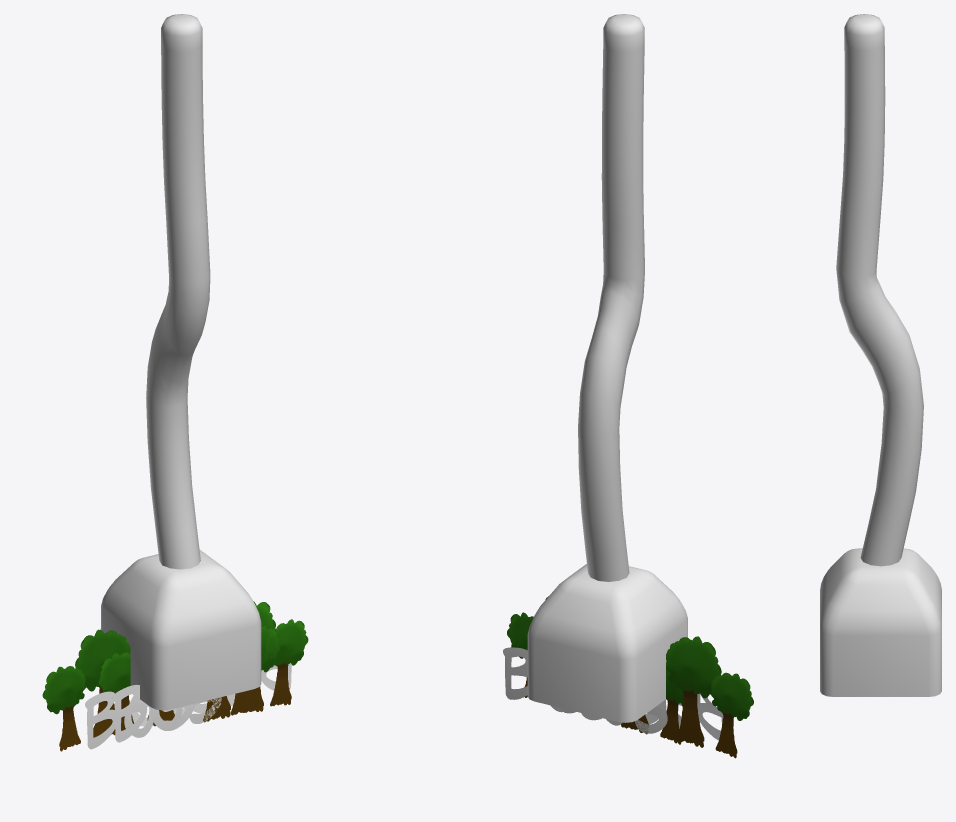
The model's file is Aanwijzing_Bordje.fbx.
The picture shows the model from 3 angles, left to right: view 1: azimuth 30°, elevation 25°; view 2: azimuth 150°, elevation 25°; view 3: azimuth 270°, elevation 25°; orthographic projection. The views are drawn at different scales.
Parts seen in each view (by area): view 1: Cube.004, Cube.005, Cube; view 2: Cube.004, Cube.005, Cube; view 3: Cube.004.
Part boxes in pixels (x1,y1,x2,y2): Cube.004: (100, 14, 261, 710); Cube.005: (42, 626, 280, 751); Cube: (98, 601, 308, 742); Cube.004: (527, 14, 687, 722); Cube.005: (561, 636, 753, 758); Cube: (503, 596, 700, 744); Cube.004: (820, 14, 941, 696).
Bounding box in the file's own units: 31.09 × 59.9 × 9.05.
